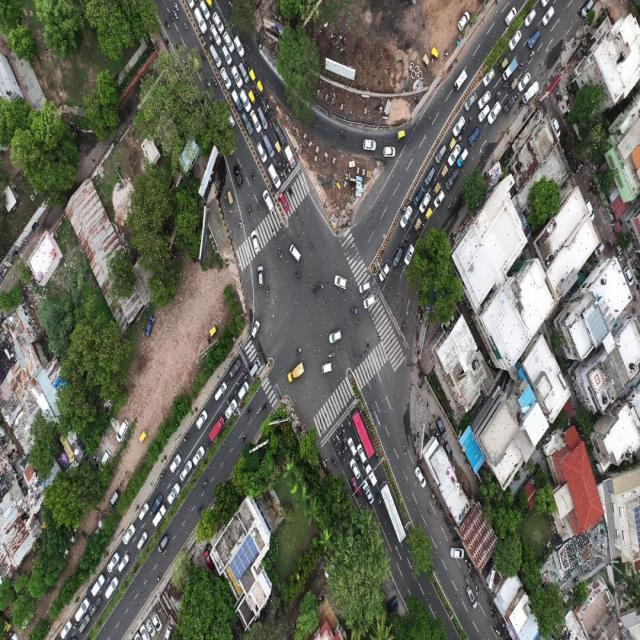3W: (226, 191, 236, 205), (432, 48, 441, 63), (256, 78, 265, 93), (498, 57, 508, 70), (413, 215, 422, 229), (432, 181, 441, 195), (208, 325, 218, 337), (248, 88, 256, 103), (396, 129, 406, 141), (424, 206, 433, 219), (439, 165, 448, 178), (138, 427, 146, 440), (423, 54, 430, 68), (275, 138, 281, 154), (510, 79, 518, 91), (449, 138, 456, 151), (249, 68, 256, 80)
Bus: (381, 482, 410, 540), (351, 411, 373, 462)
Cars: (523, 82, 540, 107), (72, 596, 89, 618), (102, 575, 118, 598), (453, 69, 468, 92), (194, 5, 207, 31), (464, 587, 478, 611), (74, 612, 90, 632), (268, 163, 281, 187), (488, 102, 502, 124), (467, 126, 481, 148), (464, 90, 478, 112), (528, 29, 542, 51), (363, 135, 380, 153), (361, 483, 374, 506), (114, 416, 127, 439), (400, 204, 412, 228), (92, 572, 105, 594), (457, 152, 470, 174), (156, 532, 169, 554), (508, 30, 522, 50), (447, 144, 461, 164), (524, 8, 538, 28), (88, 594, 102, 614), (165, 482, 179, 502), (263, 133, 275, 156), (413, 466, 425, 489), (364, 464, 376, 487), (262, 189, 274, 212), (241, 111, 253, 134), (250, 108, 262, 131), (383, 139, 396, 160), (458, 12, 471, 33), (178, 458, 191, 479), (136, 498, 150, 517), (210, 43, 222, 65), (232, 64, 244, 86), (434, 144, 447, 164), (190, 444, 203, 464), (256, 264, 266, 290), (224, 397, 237, 417), (483, 66, 496, 86), (105, 548, 118, 568), (257, 104, 267, 130), (412, 185, 424, 206), (348, 458, 360, 479), (116, 553, 128, 574), (424, 165, 436, 186), (542, 6, 554, 27), (220, 63, 230, 88), (478, 105, 491, 124), (478, 90, 491, 109), (231, 87, 242, 109), (392, 246, 403, 268), (378, 262, 389, 284), (251, 320, 262, 342), (275, 124, 287, 144), (168, 450, 180, 470), (228, 359, 240, 379), (224, 29, 236, 49), (518, 72, 530, 92), (505, 6, 517, 26), (452, 117, 466, 134), (121, 528, 134, 546), (214, 382, 227, 400), (239, 59, 249, 82), (196, 411, 208, 430), (153, 509, 166, 526), (257, 140, 267, 162), (222, 44, 233, 64), (107, 485, 118, 505), (405, 244, 415, 266), (233, 164, 243, 186), (248, 358, 260, 376), (289, 244, 301, 262), (251, 229, 260, 253), (211, 23, 222, 42), (137, 532, 148, 551), (420, 193, 431, 212), (237, 381, 249, 398), (278, 191, 288, 211), (234, 36, 244, 56), (350, 477, 360, 497), (446, 172, 457, 190), (451, 546, 464, 561), (334, 275, 347, 290), (329, 329, 342, 344), (363, 294, 375, 310), (214, 11, 224, 30), (152, 493, 162, 512), (356, 445, 366, 463), (434, 191, 445, 207), (321, 360, 333, 374), (347, 436, 355, 456), (200, 0, 210, 15), (359, 282, 370, 293)
LCV: (287, 361, 306, 384), (285, 144, 296, 167), (503, 96, 514, 116), (270, 107, 277, 121)
M2W: (400, 320, 409, 333), (196, 502, 205, 514), (446, 198, 454, 210), (402, 442, 409, 455), (181, 434, 192, 442), (265, 287, 272, 299), (327, 350, 336, 359), (350, 306, 358, 316), (528, 49, 536, 59), (375, 492, 381, 505), (288, 185, 294, 198), (296, 270, 302, 282), (296, 346, 303, 356), (517, 61, 524, 71), (336, 425, 342, 436), (336, 447, 342, 458), (495, 90, 501, 101), (340, 126, 346, 137), (200, 50, 206, 61), (317, 281, 324, 290), (250, 170, 256, 180), (345, 417, 350, 428), (330, 453, 335, 464), (341, 454, 346, 465), (232, 388, 238, 397), (236, 377, 242, 386), (241, 433, 247, 442), (159, 470, 165, 479), (356, 318, 362, 327), (256, 347, 262, 356), (246, 406, 252, 415), (246, 359, 251, 369), (265, 97, 270, 107), (200, 30, 205, 40), (238, 218, 243, 228), (256, 406, 261, 416), (164, 20, 169, 30), (212, 76, 217, 86), (224, 396, 230, 404), (335, 434, 341, 442), (247, 206, 253, 214), (312, 285, 318, 293), (203, 479, 209, 487), (156, 575, 162, 583), (503, 82, 509, 90), (341, 443, 346, 452), (257, 200, 262, 209), (169, 12, 174, 21), (242, 371, 247, 379), (203, 41, 207, 51), (332, 436, 336, 446), (252, 84, 256, 94), (280, 172, 284, 182), (72, 603, 77, 611), (263, 401, 267, 411), (184, 20, 188, 30), (174, 1, 178, 11), (340, 423, 344, 432), (265, 107, 269, 116), (174, 9, 178, 18), (342, 434, 346, 442), (269, 120, 273, 128), (255, 94, 259, 102), (284, 170, 288, 178), (282, 162, 286, 170), (278, 160, 281, 170), (207, 77, 210, 87), (260, 95, 262, 102)
MAV: (502, 56, 518, 81)
Truck: (208, 413, 225, 440)
